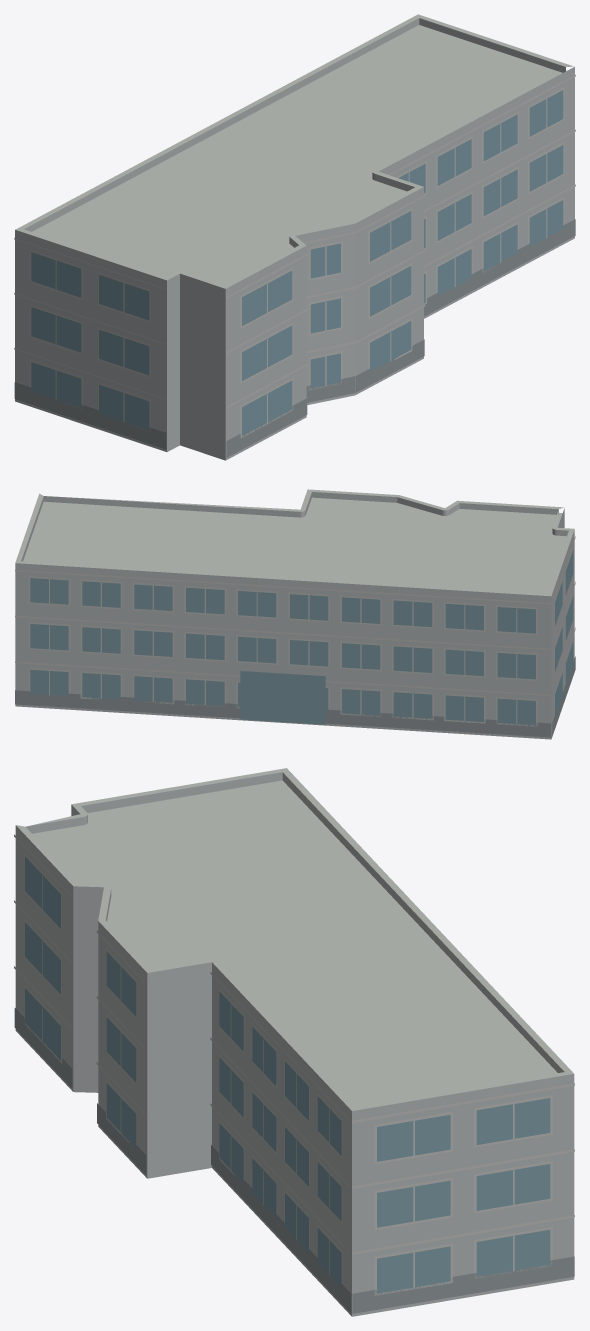
The model's file is public-822dac86-744d-47d7-b51d-a6c2f5148426.glb.
The picture shows the model from 3 angles, top to bottom: view 1: azimuth 30°, elevation 25°; view 2: azimuth 150°, elevation 25°; view 3: azimuth 270°, elevation 25°; orthographic projection. The views are drawn at different scales.
Visible parts, largest first — view 1: public-822dac86-744d-47d7-b51d-a6c2f5148426; view 2: public-822dac86-744d-47d7-b51d-a6c2f5148426; view 3: public-822dac86-744d-47d7-b51d-a6c2f5148426.
Boxes of the visible parts, x1,y1,x2,y2 form: public-822dac86-744d-47d7-b51d-a6c2f5148426: [14, 14, 575, 460]; public-822dac86-744d-47d7-b51d-a6c2f5148426: [15, 489, 575, 739]; public-822dac86-744d-47d7-b51d-a6c2f5148426: [14, 768, 574, 1316].
Bounding box in the file's own units: 32.85 × 9.15 × 22.65.
